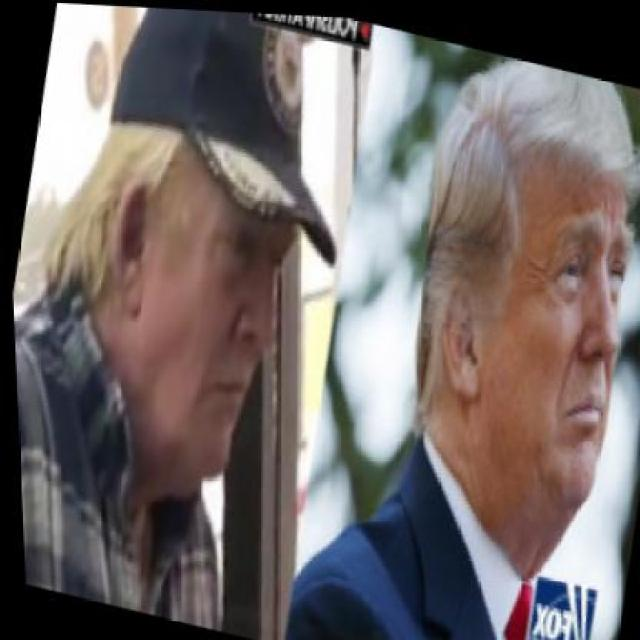hat: (85, 4, 377, 270)
